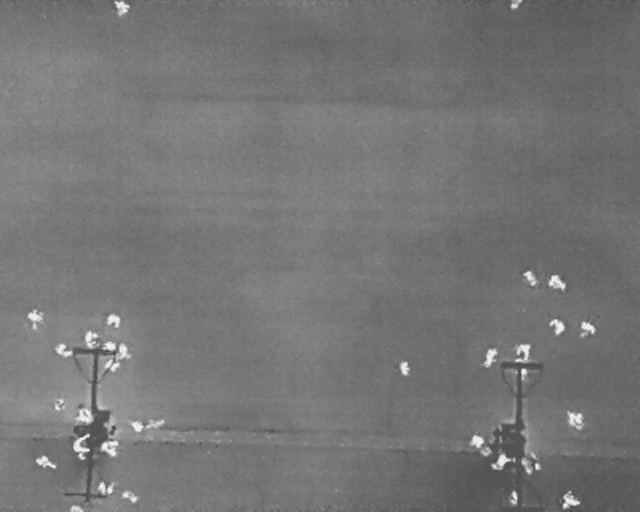Person: (72, 432, 90, 461), (490, 450, 512, 473), (480, 345, 500, 368), (522, 451, 541, 474), (567, 410, 586, 431), (561, 489, 580, 510), (26, 309, 43, 331), (100, 440, 120, 458), (34, 454, 57, 469), (522, 266, 539, 286), (54, 341, 71, 358), (516, 359, 529, 380), (579, 322, 596, 338), (550, 319, 565, 337), (547, 275, 566, 289), (518, 342, 532, 361), (85, 329, 98, 349), (114, 0, 129, 16), (76, 409, 93, 423), (97, 482, 114, 495), (118, 343, 130, 361), (104, 358, 119, 372), (470, 433, 485, 447), (122, 489, 138, 502), (107, 313, 120, 328), (508, 489, 520, 505), (400, 360, 410, 376), (104, 340, 116, 351), (131, 420, 143, 431), (68, 502, 82, 511), (510, 0, 521, 9)
